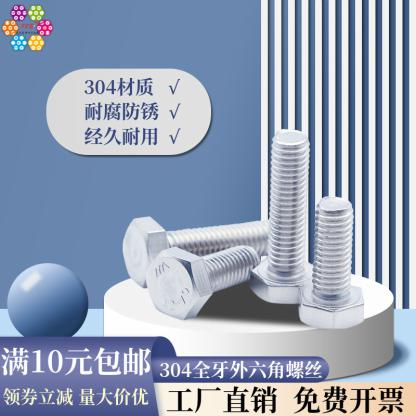FOD: (248, 130, 320, 309), (120, 214, 283, 289), (295, 196, 366, 330), (145, 243, 263, 322)
